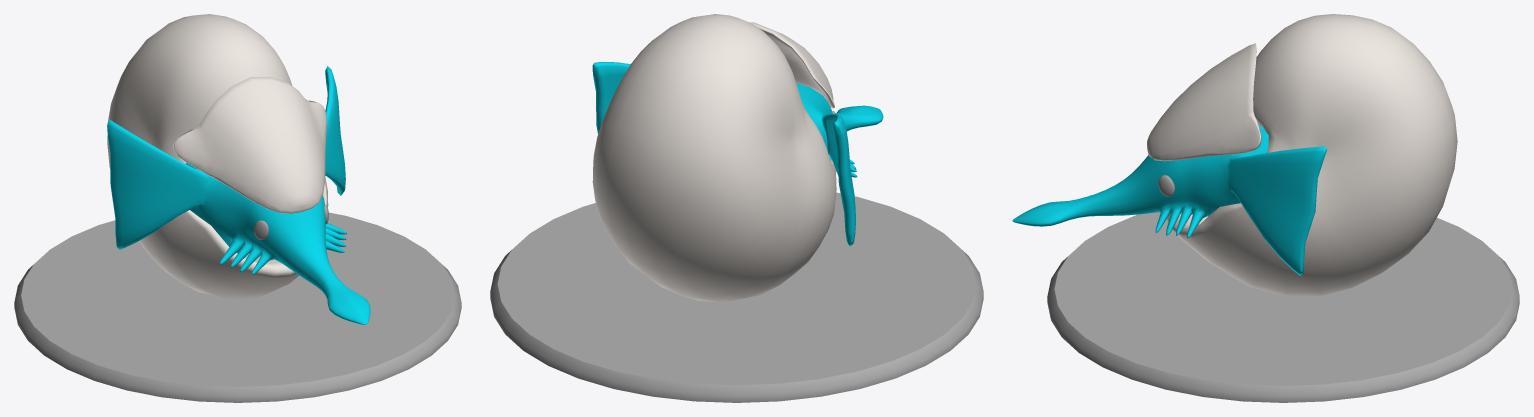
File: A_Figurine.fbx
3 renders of one model, left to right at view 1: azimuth 30°, elevation 25°; view 2: azimuth 150°, elevation 25°; view 3: azimuth 270°, elevation 25°, orthographic. The views are drawn at different scales.
Visible parts, largest first — view 1: A_geo; view 2: A_geo; view 3: A_geo.
Boxes of the visible parts, left/top/right/bottom form: A_geo: left=14, top=14, right=461, bottom=402; A_geo: left=490, top=14, right=983, bottom=402; A_geo: left=1012, top=14, right=1519, bottom=402.
Bounding box in the file's own units: 121 × 79.98 × 130.
